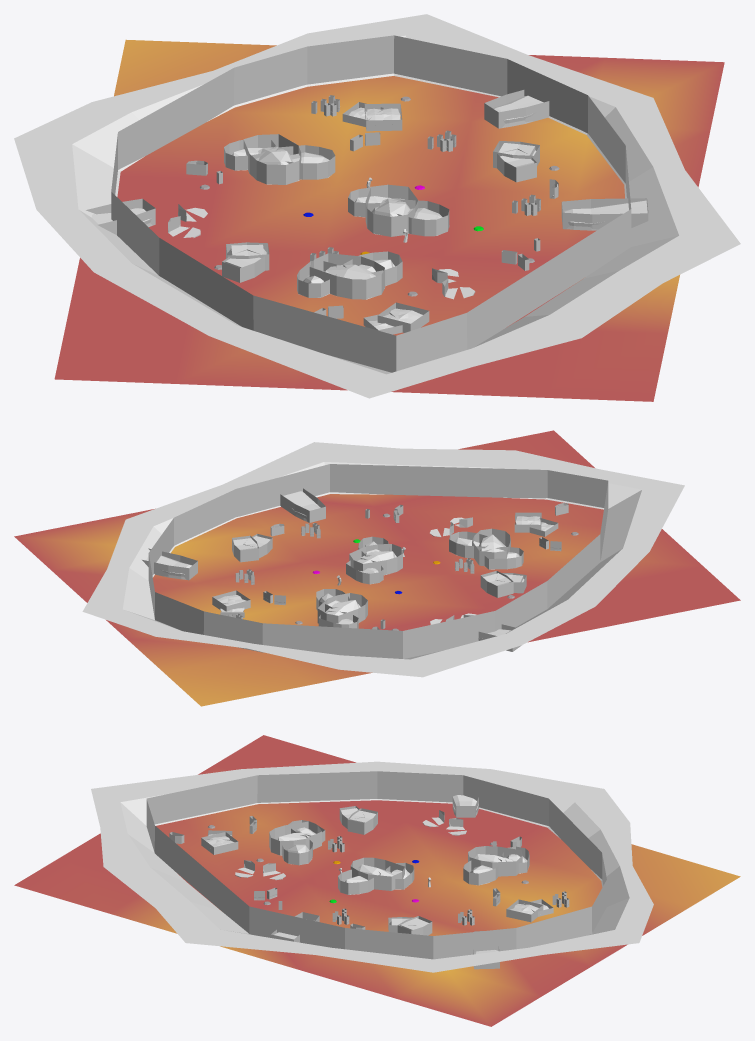
File: Campaign_Curiosity.fbx
3 views of the same model, one above another, from view 1: azimuth 30°, elevation 25°; view 2: azimuth 150°, elevation 25°; view 3: azimuth 270°, elevation 25° (orthographic). The views are drawn at different scales.
Visible parts, largest first — view 1: GeometryGround, GeometryWalls, Boundary, DecorBoundary Rock003.003, DecorBoundary Rock003.006, DecorBoundary Rock003, DecorBoundary Rock004.002, DecorBoundary Rock004.006, DecorBoundary Rock003.001, DecorBoundary Rock003.007, Decor Rock001.001, DecorBoundary Rock004.001 (+7 smaller); view 2: GeometryGround, GeometryWalls, Boundary, DecorBoundary Rock003, DecorBoundary Rock003.006, DecorBoundary Rock003.003, DecorBoundary Rock004.006, DecorBoundary Rock004.002, DecorBoundary Rock003.005, DecorBoundary Rock003.004, DecorBoundary Rock002.001, DecorBoundary Rock003.002 (+1 smaller); view 3: GeometryGround, GeometryWalls, Boundary, DecorBoundary Rock003.006, DecorBoundary Rock003.003, DecorBoundary Rock003, DecorBoundary Rock003.001, DecorBoundary Rock003.007.
Part boxes in pixels (x1=…): GeometryGround: x1=54, y1=39, x2=724, y2=401; GeometryWalls: x1=14, y1=14, x2=740, y2=398; Boundary: x1=111, y1=35, x2=631, y2=372; DecorBoundary Rock003.003: x1=309, y1=253, x2=384, y2=299; DecorBoundary Rock003.006: x1=243, y1=134, x2=301, y2=184; DecorBoundary Rock003: x1=365, y1=184, x2=418, y2=236; DecorBoundary Rock004.002: x1=561, y1=198, x2=648, y2=229; DecorBoundary Rock004.006: x1=484, y1=90, x2=549, y2=128; DecorBoundary Rock003.001: x1=395, y1=199, x2=449, y2=236; DecorBoundary Rock003.007: x1=276, y1=145, x2=335, y2=179; Decor Rock001.001: x1=564, y1=200, x2=647, y2=230; DecorBoundary Rock004.001: x1=86, y1=198, x2=155, y2=234; GeometryGround: x1=14, y1=430, x2=740, y2=706; GeometryWalls: x1=82, y1=442, x2=684, y2=677; Boundary: x1=148, y1=464, x2=608, y2=658; DecorBoundary Rock003: x1=349, y1=544, x2=402, y2=574; DecorBoundary Rock003.006: x1=317, y1=593, x2=367, y2=623; DecorBoundary Rock003.003: x1=472, y1=528, x2=510, y2=565; DecorBoundary Rock004.006: x1=142, y1=548, x2=197, y2=580; DecorBoundary Rock004.002: x1=280, y1=488, x2=325, y2=522; DecorBoundary Rock003.005: x1=484, y1=547, x2=523, y2=569; DecorBoundary Rock003.004: x1=449, y1=531, x2=488, y2=558; DecorBoundary Rock002.001: x1=480, y1=571, x2=513, y2=597; DecorBoundary Rock003.002: x1=346, y1=558, x2=383, y2=584; GeometryGround: x1=14, y1=735, x2=740, y2=1026; GeometryWalls: x1=91, y1=761, x2=653, y2=972; Boundary: x1=146, y1=771, x2=606, y2=959; DecorBoundary Rock003.006: x1=468, y1=846, x2=522, y2=876; DecorBoundary Rock003.003: x1=269, y1=821, x2=321, y2=855; DecorBoundary Rock003: x1=350, y1=857, x2=404, y2=890; DecorBoundary Rock003.001: x1=338, y1=867, x2=380, y2=894; DecorBoundary Rock003.007: x1=463, y1=857, x2=501, y2=885.
Bounding box in the file's own units: 40595 × 2150 × 42726.
